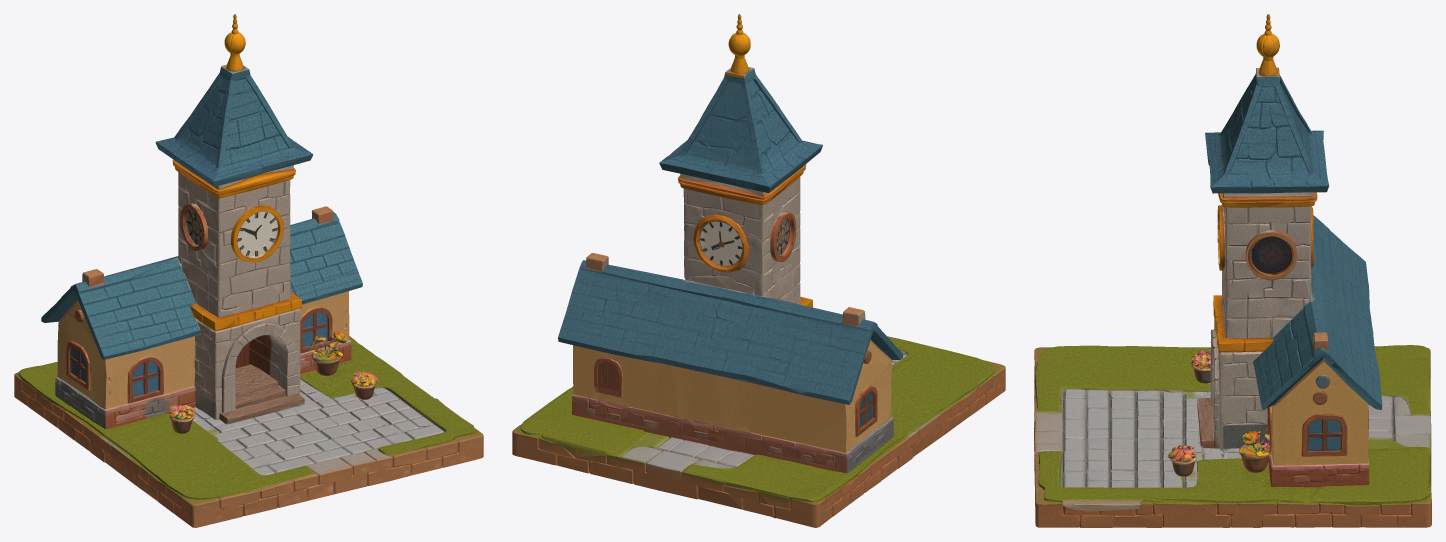
File: a13_clock_tower.glb
3 renders of one model, left to right at view 1: azimuth 30°, elevation 25°; view 2: azimuth 150°, elevation 25°; view 3: azimuth 270°, elevation 25°, orthographic. The views are drawn at different scales.
Bounding box in the file's own units: 1.46 × 1.9 × 1.57.
1 material, 1 textured.
